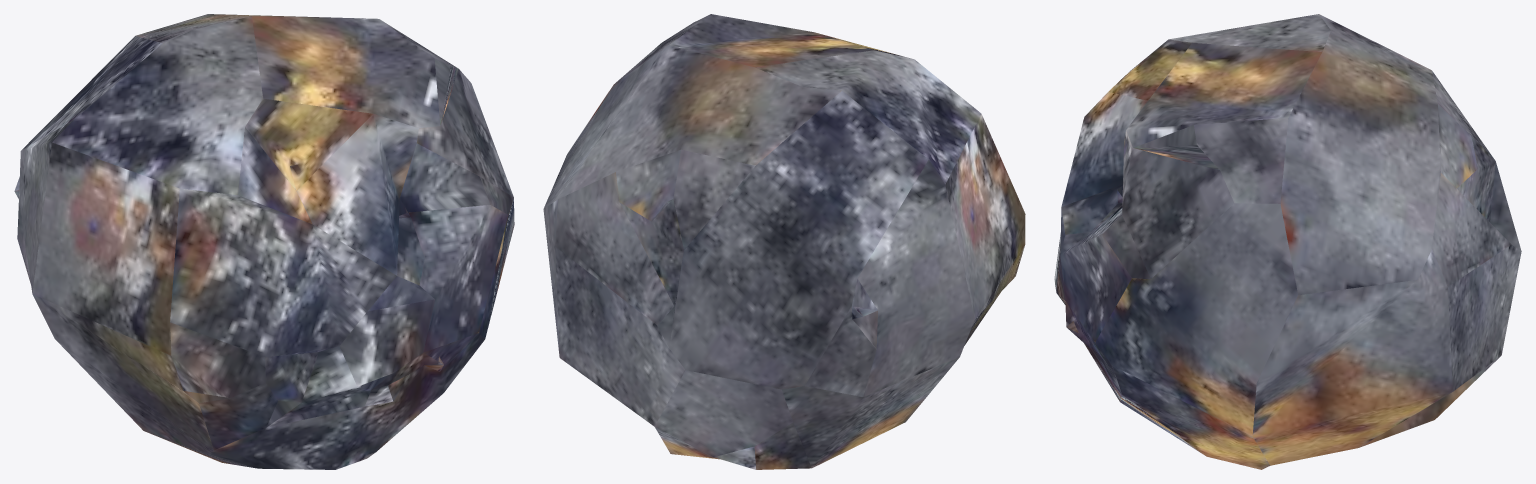
The model's file is Asteroid4-low.glb.
3 renders of one model, left to right at view 1: azimuth 30°, elevation 25°; view 2: azimuth 150°, elevation 25°; view 3: azimuth 270°, elevation 25°, orthographic. The views are drawn at different scales.
Parts seen in each view (by area): view 1: mesh_node; view 2: mesh_node; view 3: mesh_node.
Boxes of the visible parts, box(x1,y1,x2,y2) form: mesh_node: box(14, 14, 514, 469); mesh_node: box(543, 14, 1025, 469); mesh_node: box(1054, 14, 1521, 469).
Size of the model in its own units: 0.9727 by 0.8476 by 0.916.
1 material, 1 textured.
